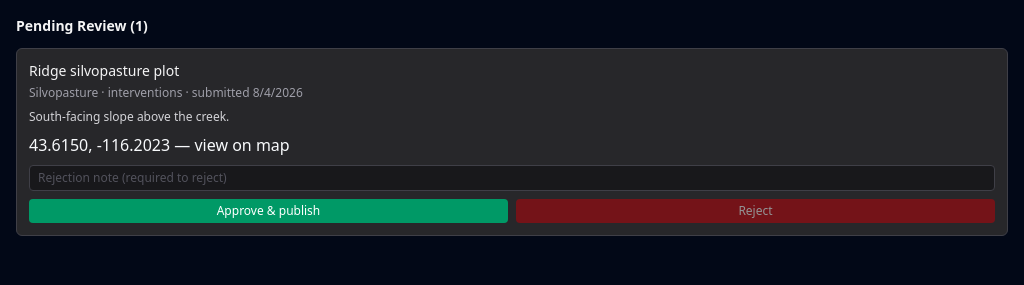
Test: ContributionQueue refused decisions › keeps an unexpected review failure visible instead of presenting success
The width and height of the screenshot is (1024, 285).
Step 1. Click the button "Approve & publish" → [268, 211], box [29,199,508,223]
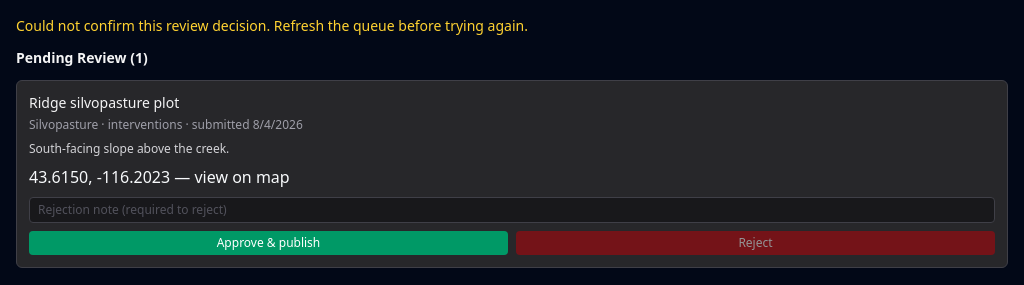
Expected: the message shows "Could not confirm this review decision", [16,16,528,35]
